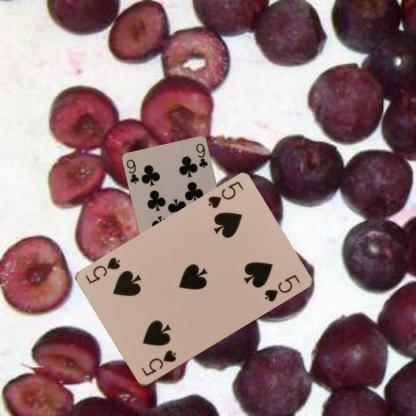5s: (205, 178, 245, 210), (138, 348, 177, 378)
9c: (124, 156, 140, 185)
